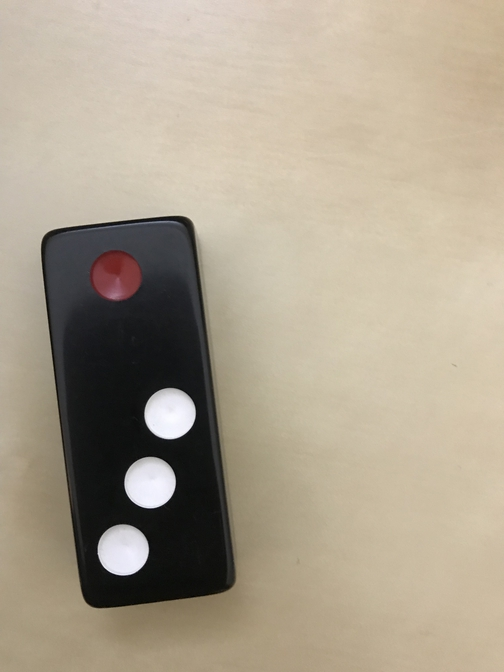goose: (41, 216, 237, 609)
